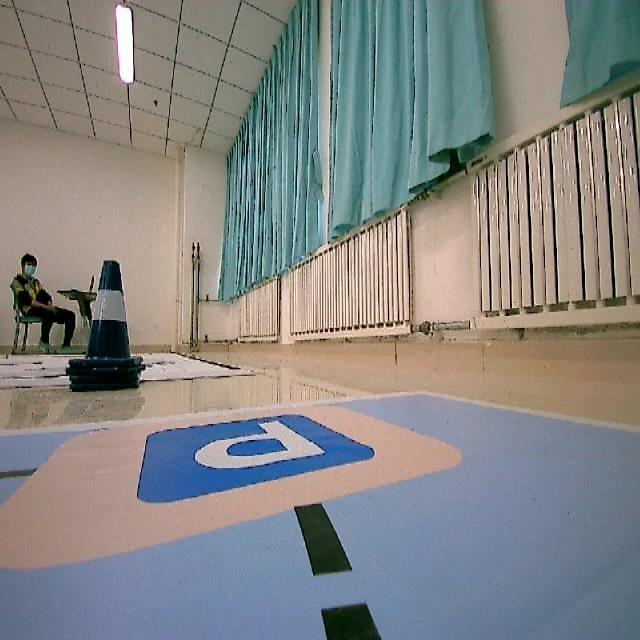obstacle: (69, 249, 145, 395)
